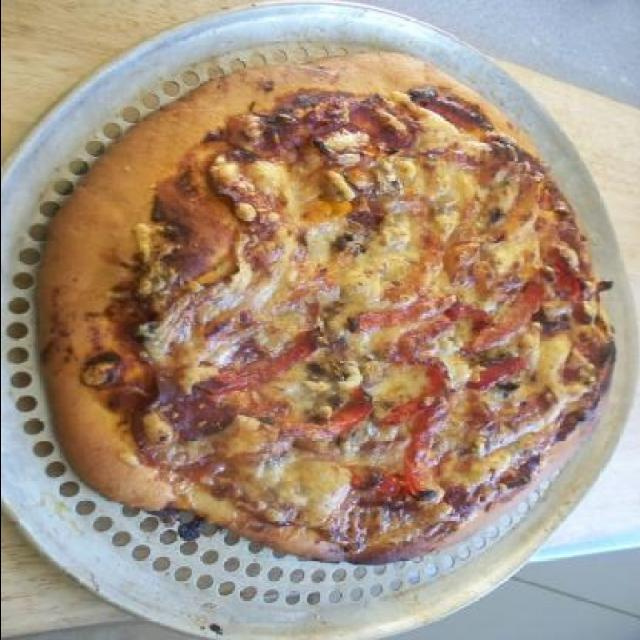Pizza: (13, 37, 616, 574)
